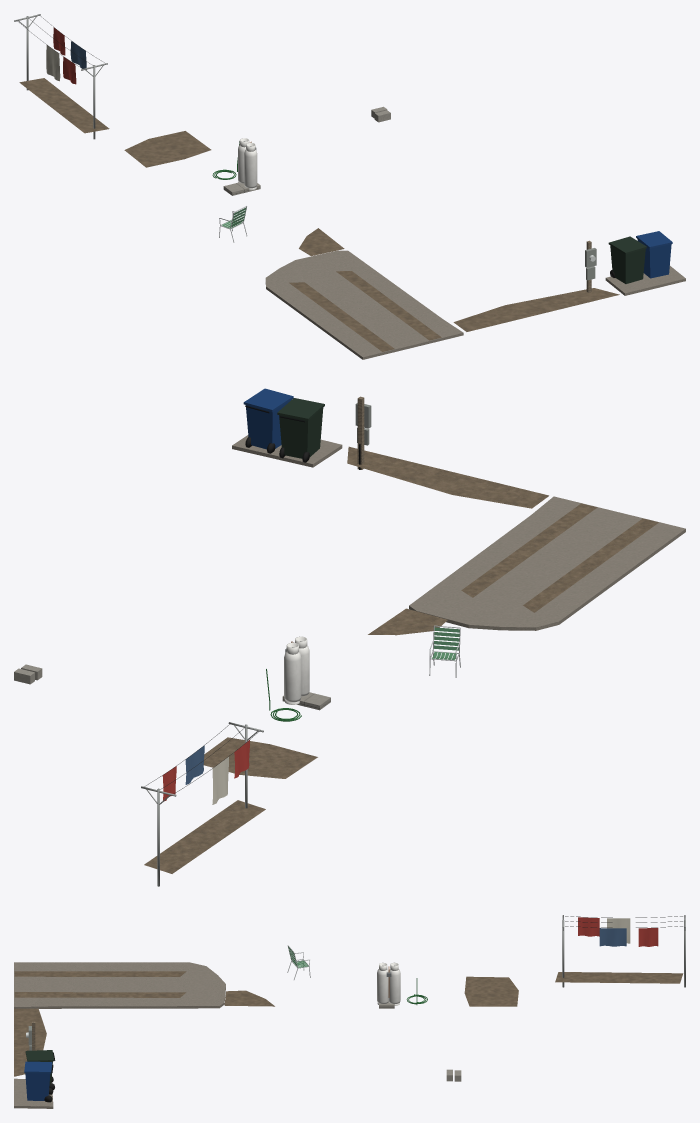
The model's file is abernathy-trailer-lot.glb.
The picture shows the model from 3 angles, top to bottom: view 1: azimuth 30°, elevation 25°; view 2: azimuth 150°, elevation 25°; view 3: azimuth 270°, elevation 25°; orthographic projection. The views are drawn at different scales.
Parts seen in each view (by area): view 1: Lot_Pad, Lot_Props; view 2: Lot_Pad, Lot_Props; view 3: Lot_Pad, Lot_Props.
Part boxes in pixels (<box>): Lot_Pad: <box>19,78,685,359</box>; Lot_Props: <box>14,14,672,292</box>; Lot_Pad: <box>144,435,685,873</box>; Lot_Props: <box>14,388,460,886</box>; Lot_Pad: <box>14,962,683,1108</box>; Lot_Props: <box>24,915,685,1102</box>.
Size of the model in its own units: 10.37 by 2.25 by 20.43.
20 materials, 5 textured.
